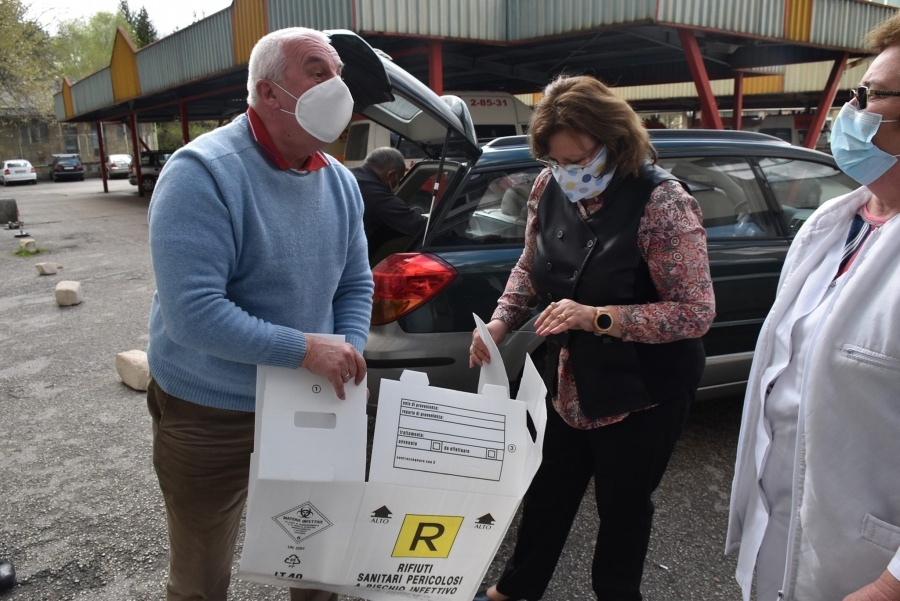with_mask: (243, 37, 357, 145), (824, 44, 900, 191), (539, 89, 628, 196)
